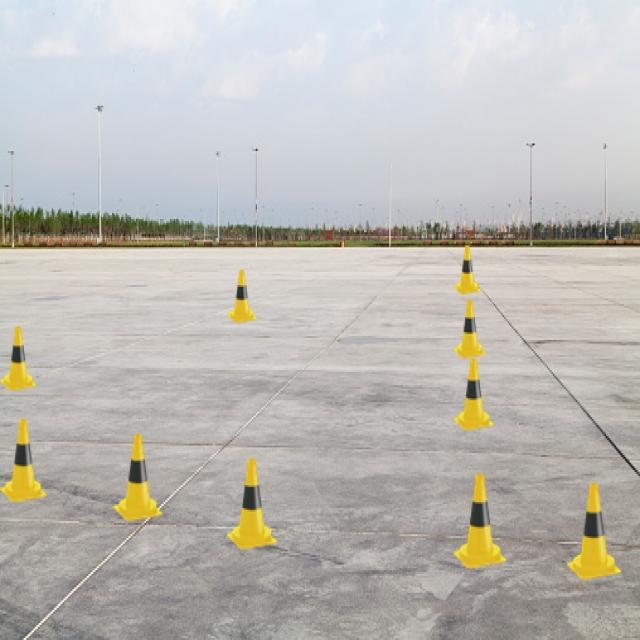yellow_cone: (567, 483, 621, 580), (454, 474, 506, 568), (227, 459, 277, 549), (114, 434, 162, 521), (0, 419, 47, 502), (453, 359, 494, 430), (0, 326, 37, 391), (454, 300, 486, 359), (227, 270, 257, 323), (454, 246, 481, 294)
